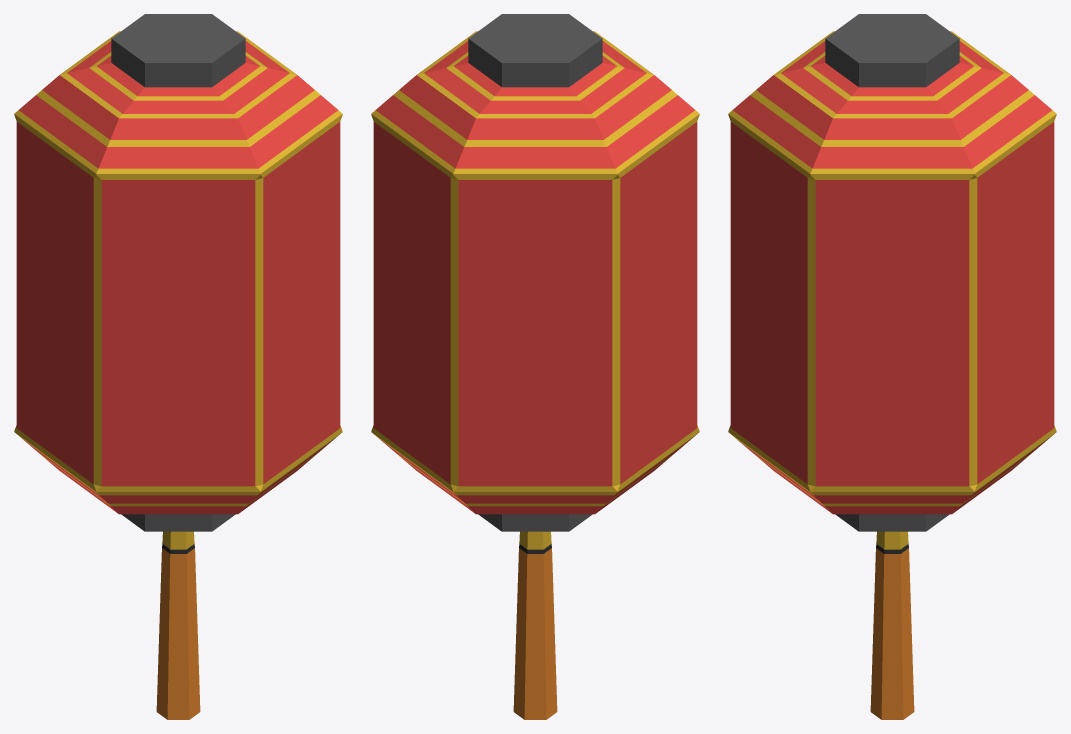
The model's file is lampion2.fbx.
3 renders of one model, left to right at view 1: azimuth 30°, elevation 25°; view 2: azimuth 150°, elevation 25°; view 3: azimuth 270°, elevation 25°, orthographic.
Parts seen in each view (by area): view 1: Cylinder; view 2: Cylinder; view 3: Cylinder.
Part boxes in pixels (box(x1,y1,x2,y2)): Cylinder: box(14, 14, 342, 719); Cylinder: box(371, 14, 699, 719); Cylinder: box(728, 14, 1056, 719).
Bounding box in the file's own units: 40.77 × 106 × 47.08.
